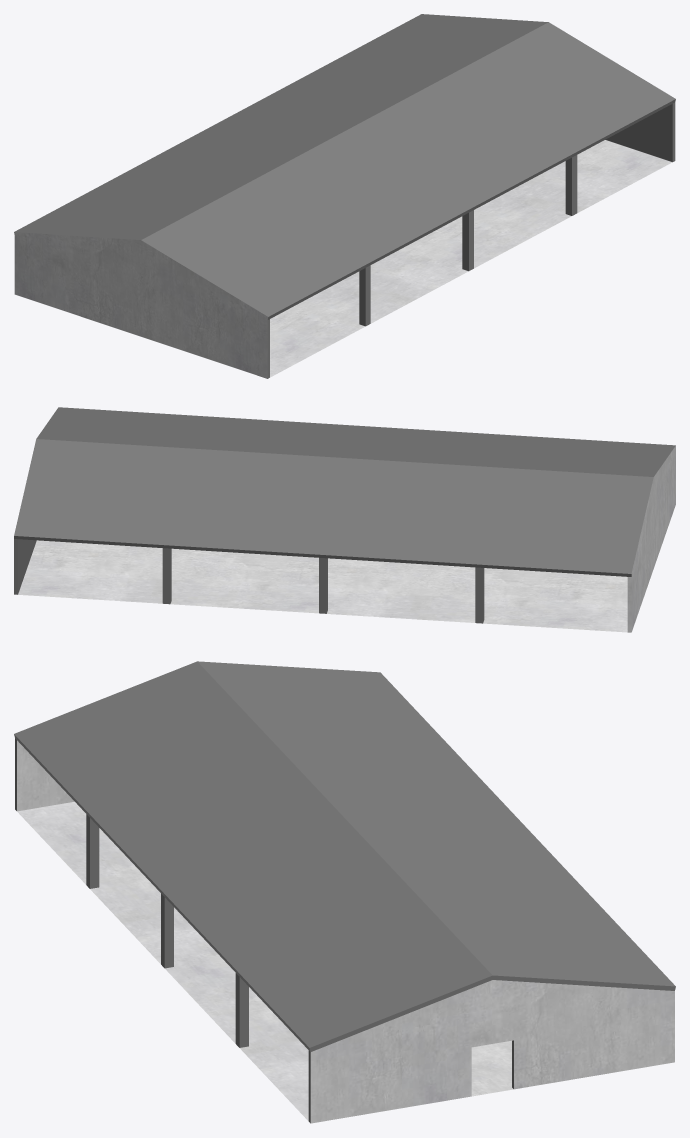
The picture shows the model from 3 angles, top to bottom: view 1: azimuth 30°, elevation 25°; view 2: azimuth 150°, elevation 25°; view 3: azimuth 270°, elevation 25°; orthographic projection. The views are drawn at different scales.
Visible parts, largest first — view 1: 水禽; view 2: 水禽; view 3: 水禽.
Part boxes in pixels (bbox=[...]): 水禽: bbox=[14, 14, 675, 378]; 水禽: bbox=[14, 407, 675, 632]; 水禽: bbox=[14, 661, 675, 1123].
Size of the model in its own units: 26.55 by 3.87 by 19.77.
2 materials, 1 textured.
